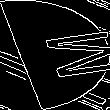M_W: (7, 27, 103, 83)
